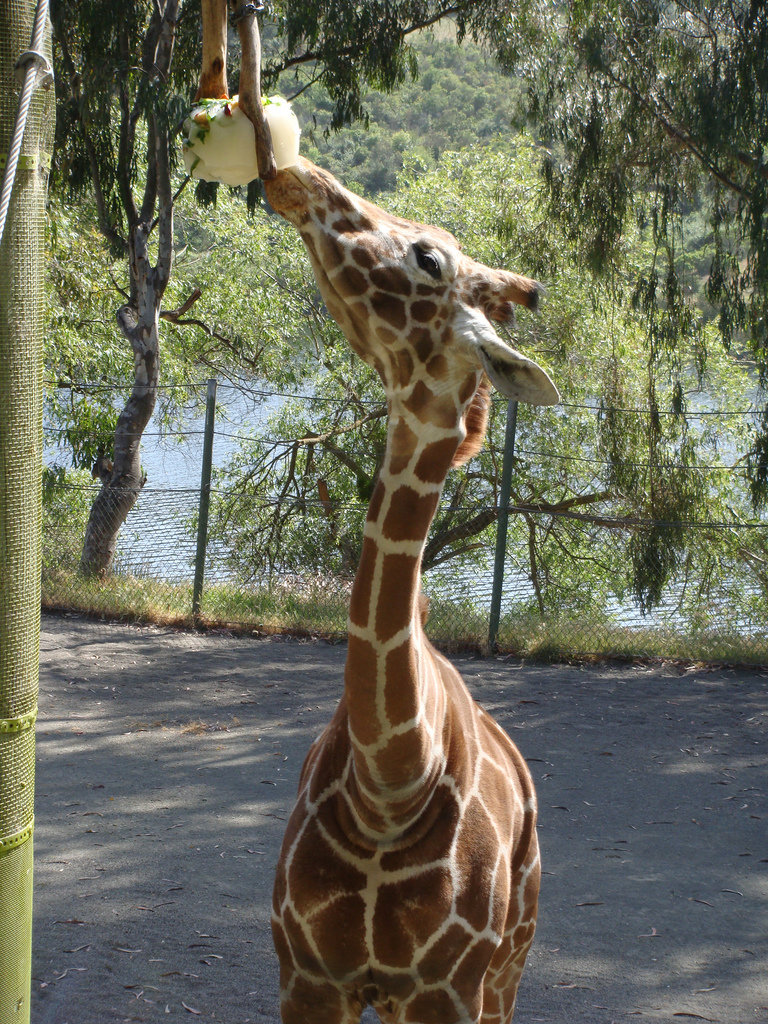giraffe: (221, 149, 584, 978)
